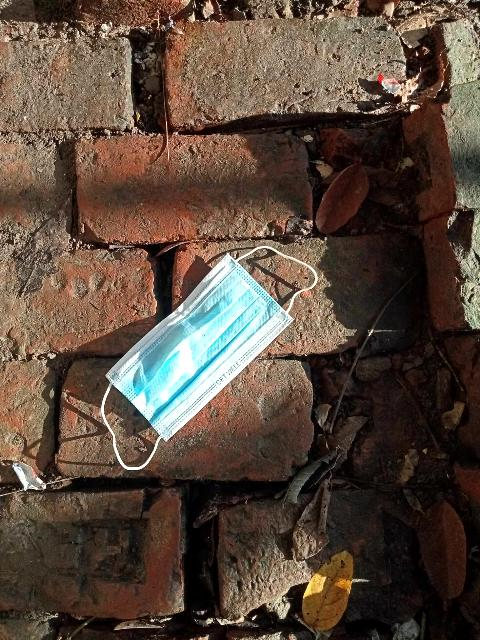mask: (50, 204, 353, 488)
